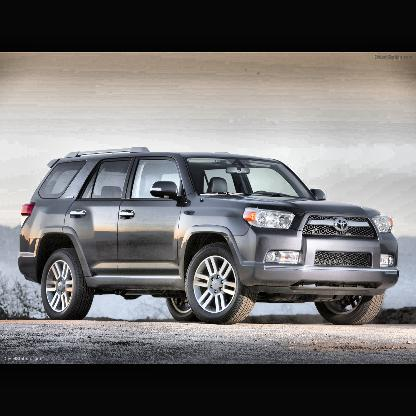Toyota 4Runner SUV 2012: (19, 148, 404, 329)
